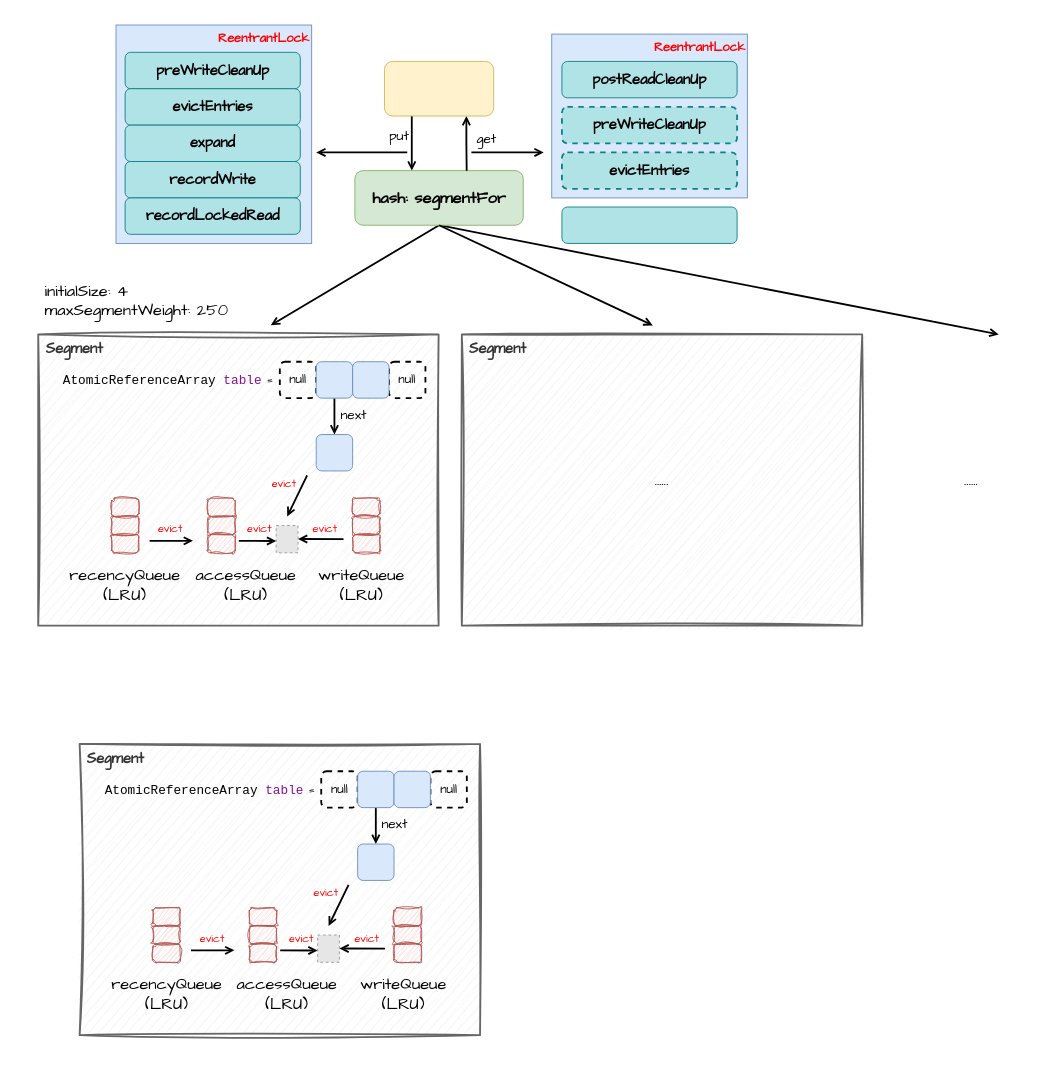
This 1041x1068 diagram has some shape labels left out. Grey dashed boxes stand in for pictures. Each missing label, with the box of its shape:
operation: (384, 61, 494, 116)
recordRead: (561, 206, 737, 243)
